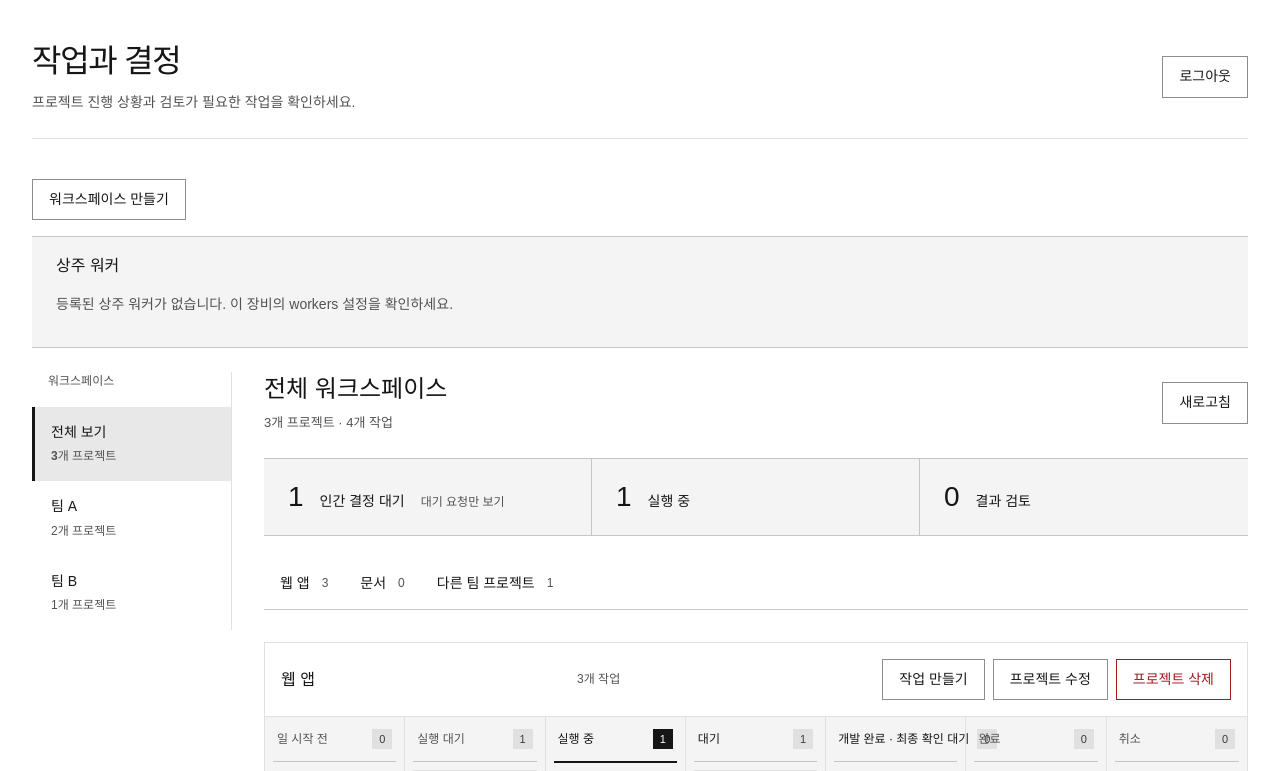
one workspace click shows all its projects and tasks in status columns, including subtasks and empty projects
Click the button "팀 A 2개 프로젝트": (132, 518) [32, 481, 231, 556]
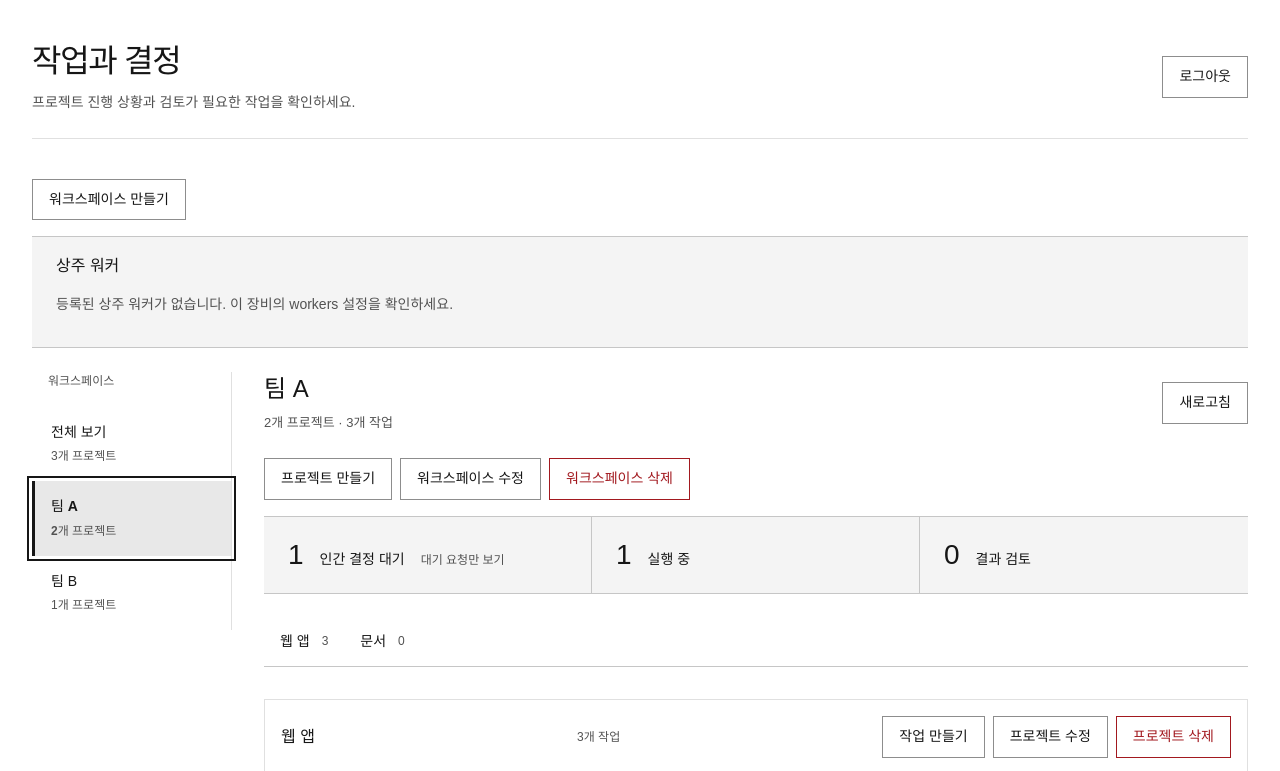
Expected: the heading "웹 앱" is shown, [281, 724, 315, 750]
Expected: the link "다른 팀 프로젝트" is gone
Expected: the text "2개 프로젝트 · 3개 작업" is shown, [264, 413, 393, 434]
Click the button "1 인간 결정 대기 대기 요청만 보기": (428, 555) [264, 516, 592, 593]
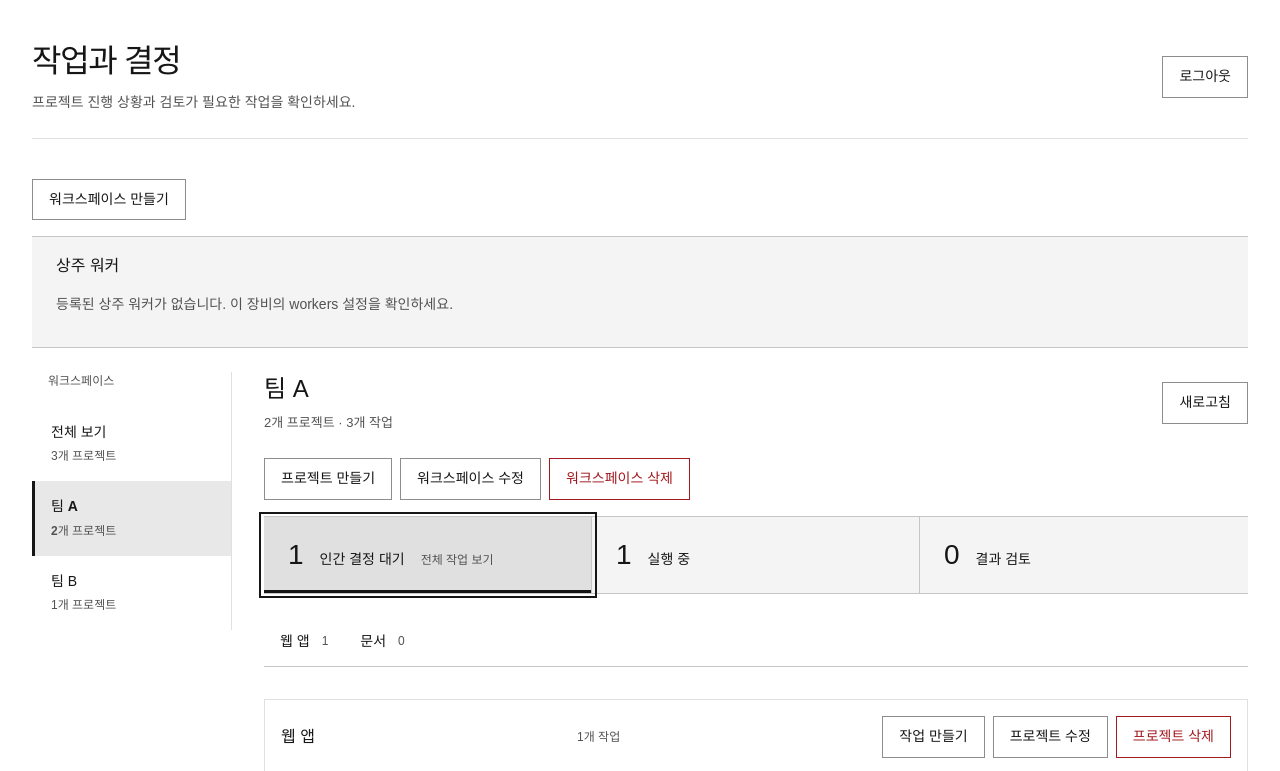
Click the button "팀 B 1개 프로젝트": (132, 593) [32, 556, 231, 630]
(page scrolled)
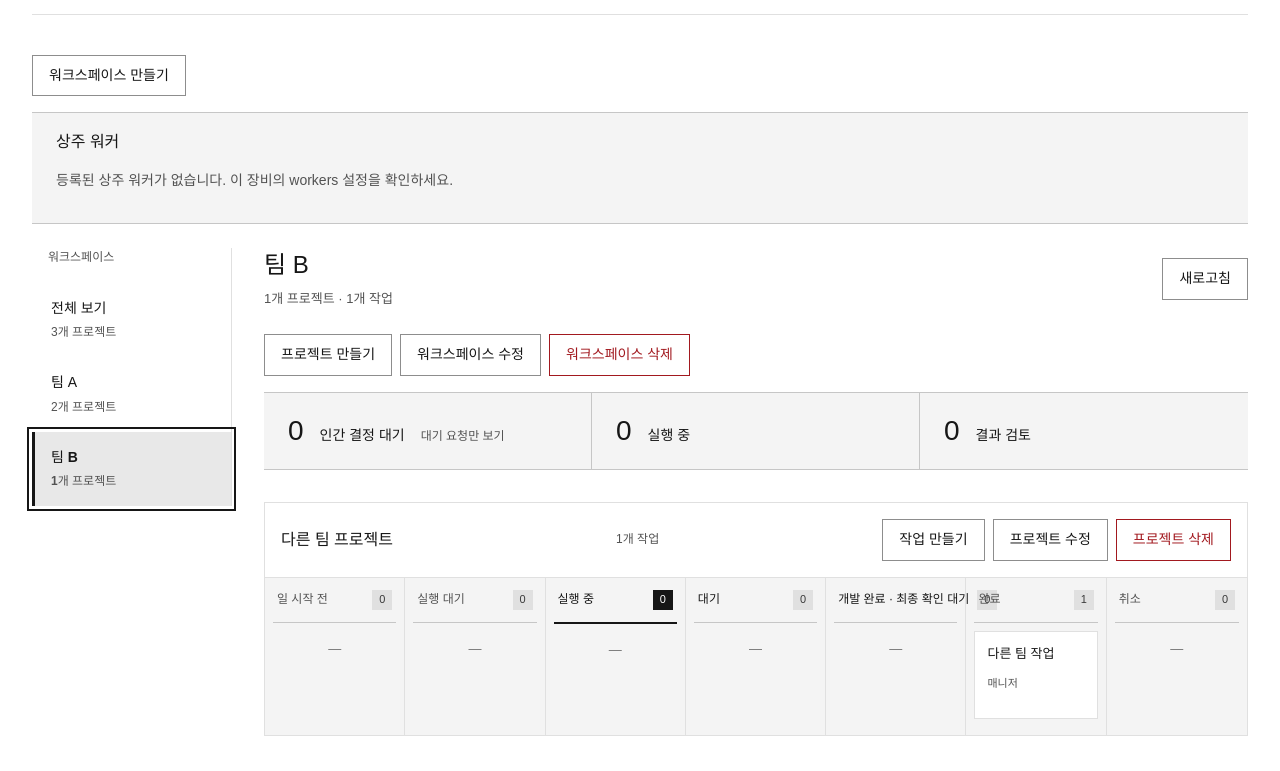
Expected: the button "다른 팀 작업 매니저" is shown, [974, 630, 1098, 718]
